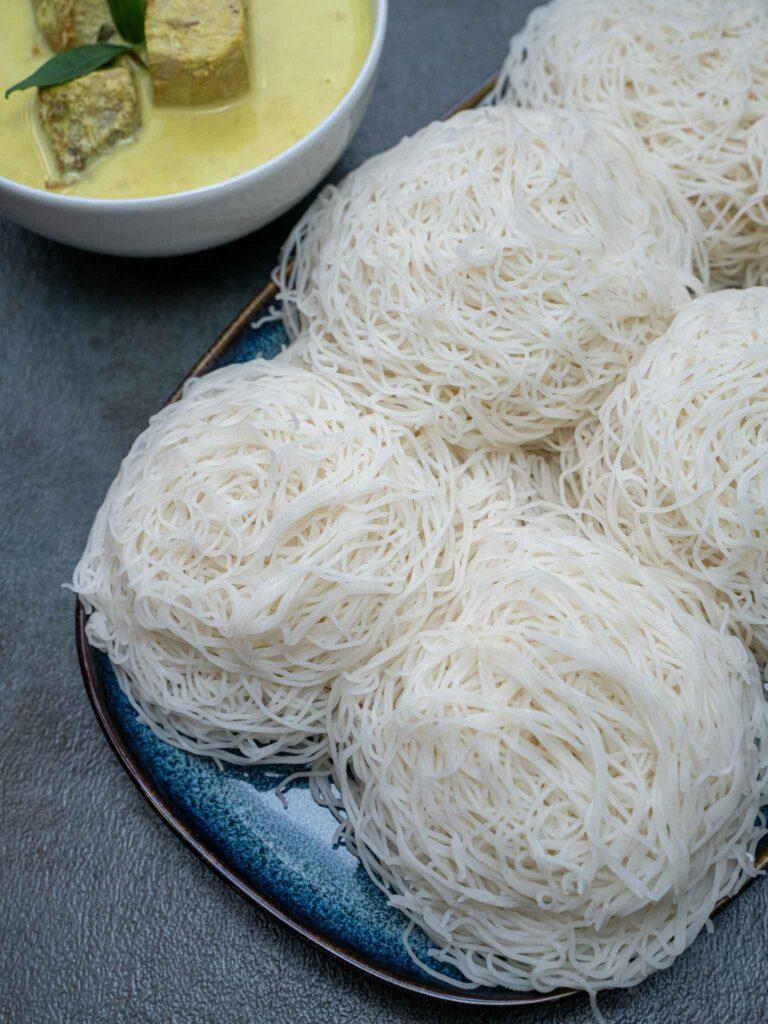Fish Curry: (4, 4, 323, 200)
String Hoppers: (64, 235, 768, 941)
